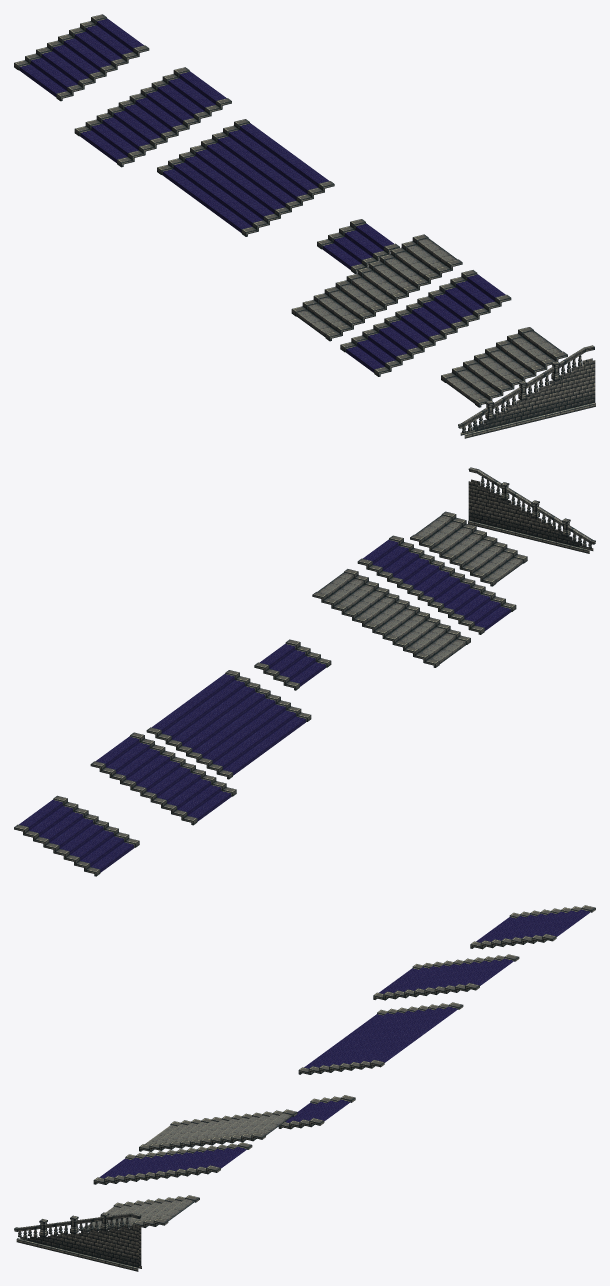
File: EnvMdrMD_Daiseidou_B_Stairs_A_12S_Handrail.FBX
The picture shows the model from 3 angles, top to bottom: view 1: azimuth 30°, elevation 25°; view 2: azimuth 150°, elevation 25°; view 3: azimuth 330°, elevation 25°; orthographic projection. The views are drawn at different scales.
Visible parts, largest first — view 1: EnvMdrMD_Daiseidou_B_Stairs_A_1000W8S_Cpt, EnvMdrMD_Daiseidou_B_Stairs_A_500W10S_Cpt, EnvMdrMD_Daiseidou_B_Stairs_A_400W12S_Cpt, EnvMdrMD_Daiseidou_B_Stairs_A_400W12S, EnvMdrMD_Daiseidou_B_Stairs_A_500W8S_Cpt, EnvMdrMD_Daiseidou_B_Stairs_A_12S_Handrail, EnvMdrMD_Daiseidou_B_Stairs_A_400W8S, EnvMdrMD_Daiseidou_B_Stairs_A_400W4S_Cpt; view 2: EnvMdrMD_Daiseidou_B_Stairs_A_1000W8S_Cpt, EnvMdrMD_Daiseidou_B_Stairs_A_500W10S_Cpt, EnvMdrMD_Daiseidou_B_Stairs_A_400W12S_Cpt, EnvMdrMD_Daiseidou_B_Stairs_A_400W12S, EnvMdrMD_Daiseidou_B_Stairs_A_500W8S_Cpt, EnvMdrMD_Daiseidou_B_Stairs_A_12S_Handrail, EnvMdrMD_Daiseidou_B_Stairs_A_400W8S, EnvMdrMD_Daiseidou_B_Stairs_A_400W4S_Cpt; view 3: EnvMdrMD_Daiseidou_B_Stairs_A_1000W8S_Cpt, EnvMdrMD_Daiseidou_B_Stairs_A_12S_Handrail, EnvMdrMD_Daiseidou_B_Stairs_A_400W12S_Cpt, EnvMdrMD_Daiseidou_B_Stairs_A_400W12S, EnvMdrMD_Daiseidou_B_Stairs_A_500W10S_Cpt, EnvMdrMD_Daiseidou_B_Stairs_A_500W8S_Cpt, EnvMdrMD_Daiseidou_B_Stairs_A_400W8S, EnvMdrMD_Daiseidou_B_Stairs_A_400W4S_Cpt.
Boxes of the visible parts, x1,y1,x2,y2 form: EnvMdrMD_Daiseidou_B_Stairs_A_1000W8S_Cpt: [157, 119, 334, 236]; EnvMdrMD_Daiseidou_B_Stairs_A_500W10S_Cpt: [74, 67, 231, 167]; EnvMdrMD_Daiseidou_B_Stairs_A_400W12S_Cpt: [340, 270, 511, 376]; EnvMdrMD_Daiseidou_B_Stairs_A_400W12S: [291, 234, 462, 341]; EnvMdrMD_Daiseidou_B_Stairs_A_500W8S_Cpt: [14, 14, 149, 101]; EnvMdrMD_Daiseidou_B_Stairs_A_12S_Handrail: [458, 345, 595, 438]; EnvMdrMD_Daiseidou_B_Stairs_A_400W8S: [441, 327, 567, 407]; EnvMdrMD_Daiseidou_B_Stairs_A_400W4S_Cpt: [317, 219, 399, 273]; EnvMdrMD_Daiseidou_B_Stairs_A_1000W8S_Cpt: [146, 670, 311, 779]; EnvMdrMD_Daiseidou_B_Stairs_A_500W10S_Cpt: [90, 732, 236, 825]; EnvMdrMD_Daiseidou_B_Stairs_A_400W12S_Cpt: [357, 535, 516, 634]; EnvMdrMD_Daiseidou_B_Stairs_A_400W12S: [312, 569, 470, 667]; EnvMdrMD_Daiseidou_B_Stairs_A_500W8S_Cpt: [14, 795, 139, 876]; EnvMdrMD_Daiseidou_B_Stairs_A_12S_Handrail: [468, 467, 595, 553]; EnvMdrMD_Daiseidou_B_Stairs_A_400W8S: [410, 511, 527, 586]; EnvMdrMD_Daiseidou_B_Stairs_A_400W4S_Cpt: [254, 639, 331, 690]; EnvMdrMD_Daiseidou_B_Stairs_A_1000W8S_Cpt: [298, 1002, 463, 1074]; EnvMdrMD_Daiseidou_B_Stairs_A_12S_Handrail: [14, 1212, 141, 1271]; EnvMdrMD_Daiseidou_B_Stairs_A_400W12S_Cpt: [93, 1142, 252, 1184]; EnvMdrMD_Daiseidou_B_Stairs_A_400W12S: [139, 1109, 297, 1151]; EnvMdrMD_Daiseidou_B_Stairs_A_500W10S_Cpt: [373, 954, 519, 1000]; EnvMdrMD_Daiseidou_B_Stairs_A_500W8S_Cpt: [470, 905, 595, 949]; EnvMdrMD_Daiseidou_B_Stairs_A_400W8S: [82, 1195, 199, 1231]; EnvMdrMD_Daiseidou_B_Stairs_A_400W4S_Cpt: [278, 1095, 355, 1129].
Bounding box in the file's own units: 920 × 385 × 5823.
2 materials, 2 textured.
